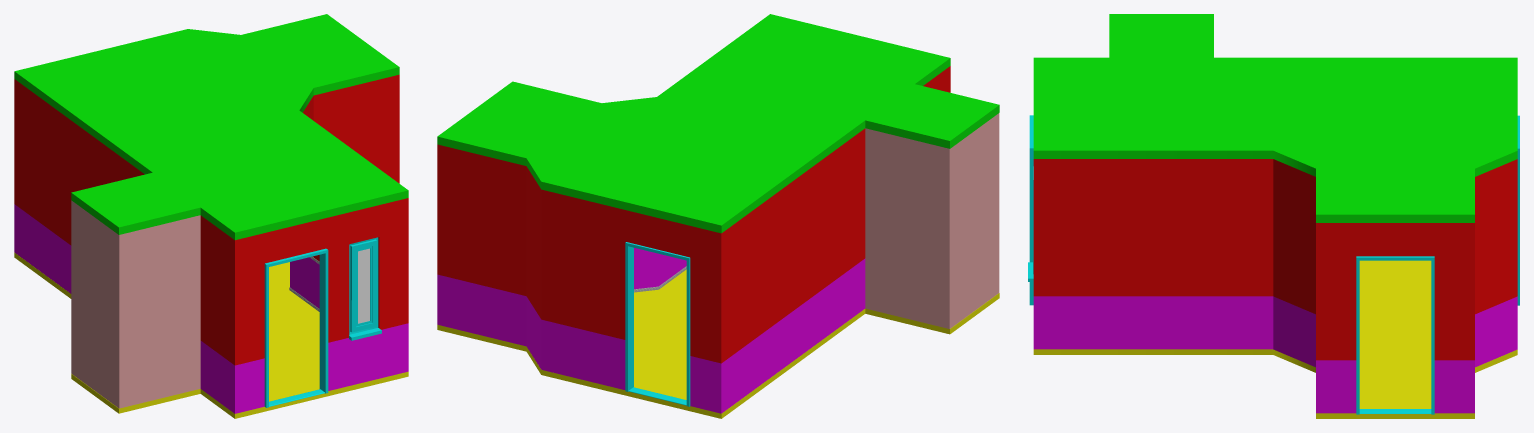
File: FloorPlan512_physics.fbx
3 views of the same model, side by side, from view 1: azimuth 30°, elevation 25°; view 2: azimuth 150°, elevation 25°; view 3: azimuth 270°, elevation 25° (orthographic). The views are drawn at different scales.
Visible parts, largest first — view 1: FP512:Ceiling_1, FP512:Walls_1, FP512:Walls_2, FP512:Floor_1, FP512:Ceiling_2, FP512:DoorFrame_1, FP512:WindowFrame_1, FP512:WindowPane_1, FP512:Floor_2; view 2: FP512:Walls_1, FP512:Ceiling_1, FP512:Walls_2, FP512:Floor_1, FP512:Ceiling_2, FP512:DoorFrame_3, FP512:Floor_2; view 3: FP512:Walls_1, FP512:Ceiling_1, FP512:Floor_1, FP512:Ceiling_2, FP512:DoorFrame_2, FP512:DoorFrame_1, FP512:DoorFrame_3.
Boxes of the visible parts, bbox=[...] form: FP512:Ceiling_1: bbox=[14, 14, 408, 240]; FP512:Walls_1: bbox=[14, 74, 408, 413]; FP512:Walls_2: bbox=[71, 200, 200, 408]; FP512:Floor_1: bbox=[14, 252, 408, 418]; FP512:Ceiling_2: bbox=[71, 172, 200, 234]; FP512:DoorFrame_1: bbox=[264, 248, 328, 407]; FP512:WindowFrame_1: bbox=[349, 237, 381, 340]; FP512:WindowPane_1: bbox=[358, 248, 369, 323]; FP512:Floor_2: bbox=[71, 374, 200, 413]; FP512:Walls_1: bbox=[437, 66, 950, 413]; FP512:Ceiling_1: bbox=[437, 14, 950, 233]; FP512:Walls_2: bbox=[865, 113, 999, 328]; FP512:Floor_1: bbox=[437, 269, 865, 418]; FP512:Ceiling_2: bbox=[865, 84, 999, 148]; FP512:DoorFrame_3: bbox=[625, 242, 690, 406]; FP512:Floor_2: bbox=[865, 293, 999, 334]; FP512:Walls_1: bbox=[1033, 159, 1517, 413]; FP512:Ceiling_1: bbox=[1033, 57, 1517, 222]; FP512:Floor_1: bbox=[1033, 260, 1517, 418]; FP512:Ceiling_2: bbox=[1109, 14, 1213, 57]; FP512:DoorFrame_2: bbox=[1356, 256, 1434, 414]; FP512:DoorFrame_1: bbox=[1029, 115, 1033, 305]; FP512:DoorFrame_3: bbox=[1517, 115, 1519, 305].
Size of the model in its own units: 568 by 268 by 585.
